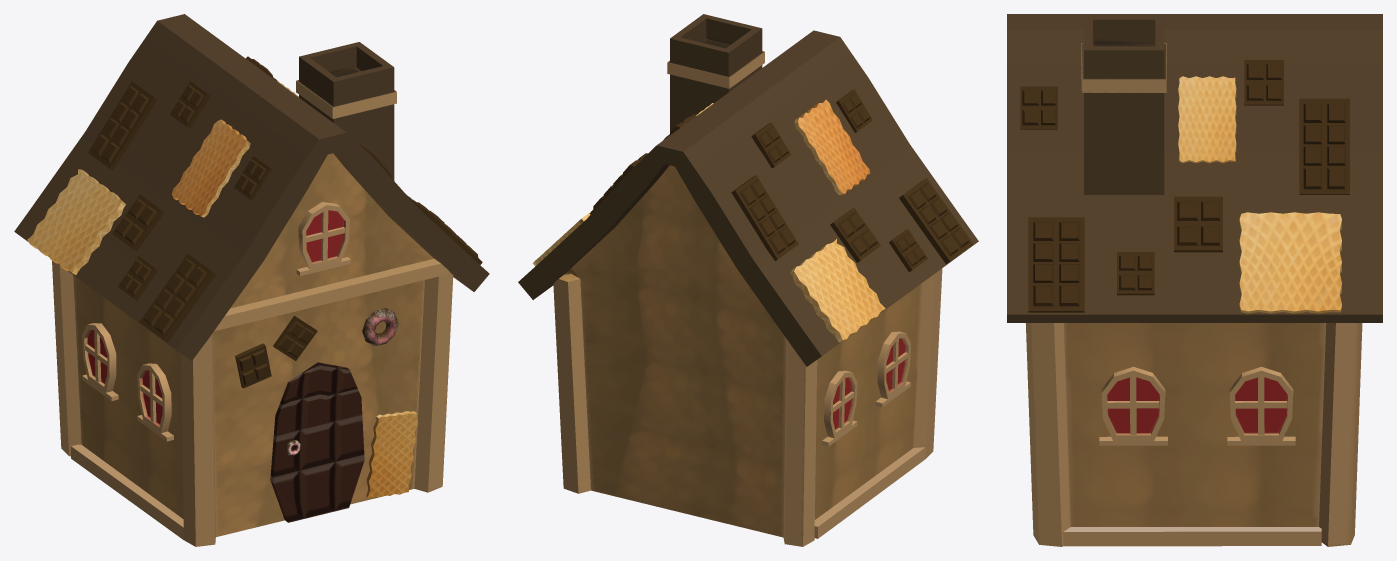
Rendered from newshause.fbx.
3 renders of one model, left to right at view 1: azimuth 30°, elevation 25°; view 2: azimuth 150°, elevation 25°; view 3: azimuth 270°, elevation 25°, orthographic. The views are drawn at different scales.
Visible parts, largest first — view 1: polySurface51; view 2: polySurface51; view 3: polySurface51.
Boxes of the visible parts, left/top/right/bottom form: polySurface51: left=14, top=14, right=489, bottom=546; polySurface51: left=518, top=14, right=978, bottom=546; polySurface51: left=1007, top=14, right=1382, bottom=546.
Bounding box in the file's own units: 7.67 × 9.39 × 6.68.
1 material, 1 textured.
